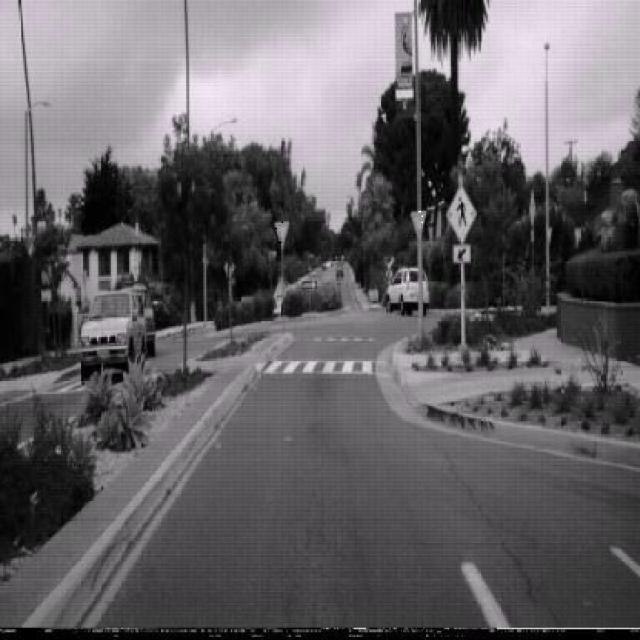pedestrianCrossing: (446, 182, 477, 244)
yield: (409, 209, 427, 239), (274, 220, 289, 248)
